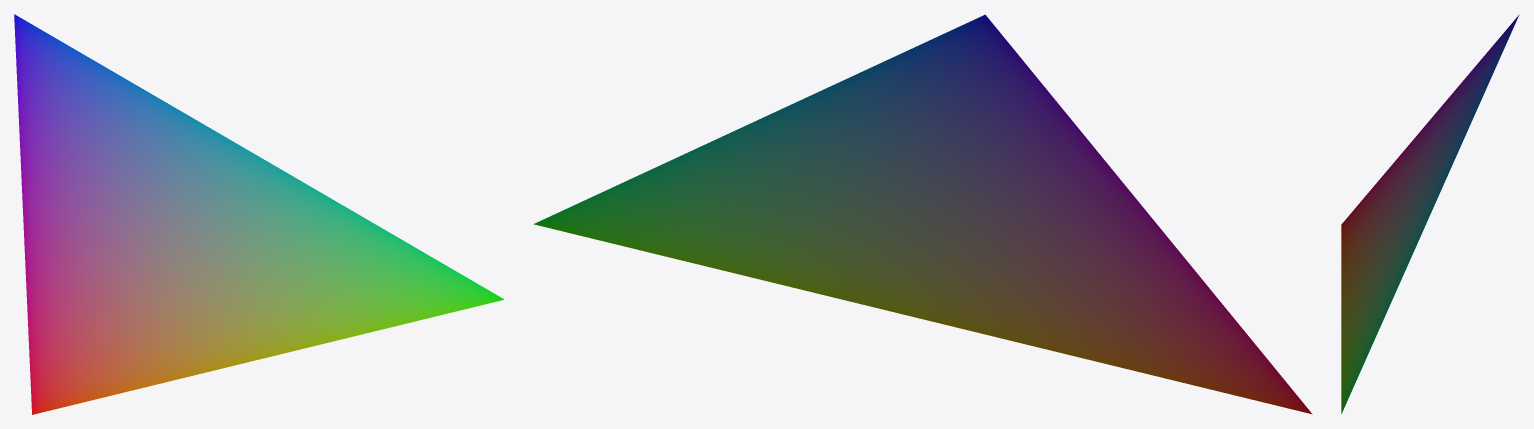
The model's file is face_cleaning_conquest_48.obj.
3 views of the same model, side by side, from view 1: azimuth 30°, elevation 25°; view 2: azimuth 150°, elevation 25°; view 3: azimuth 270°, elevation 25° (orthographic). The views are drawn at different scales.
Bounding box in the file's own units: 0.8253 × 0.5 × 0.3273.
